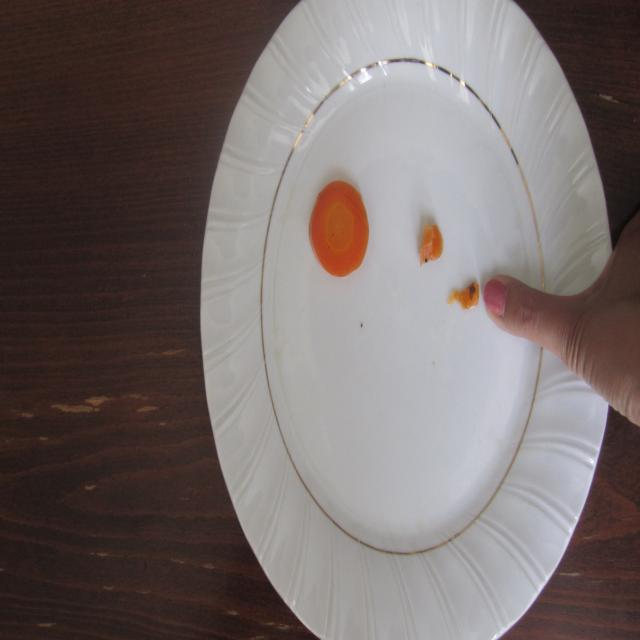carrot: (302, 181, 488, 371)
